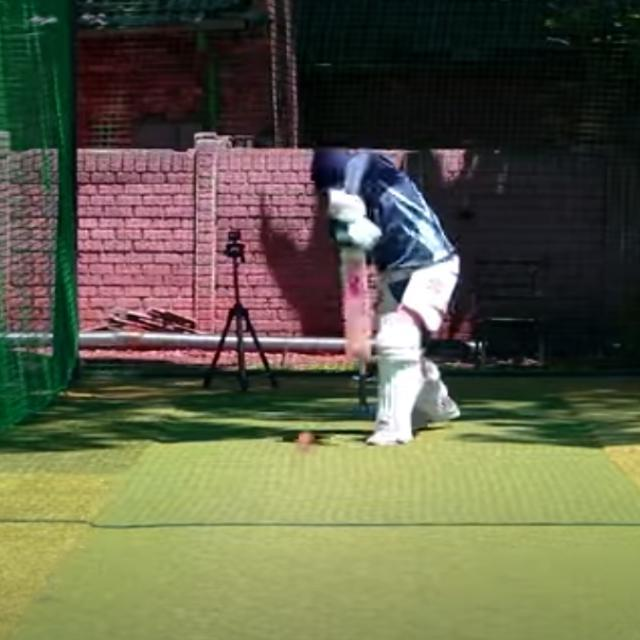bat: (339, 249, 372, 362)
